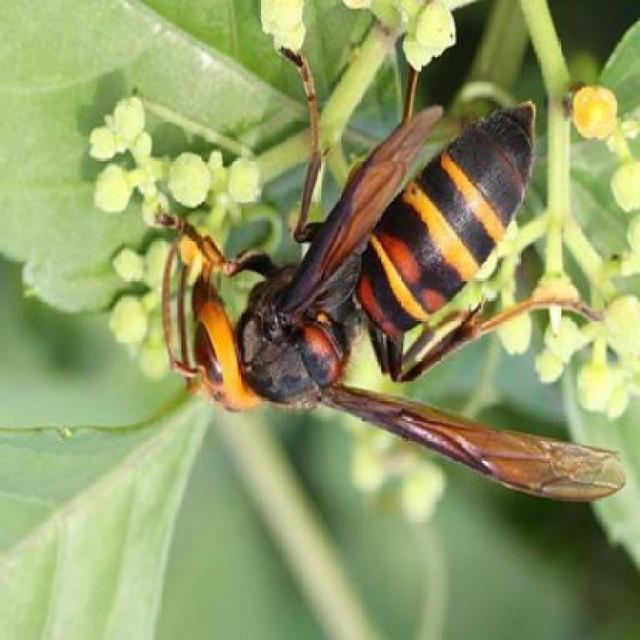Wasp: (148, 36, 630, 501)
